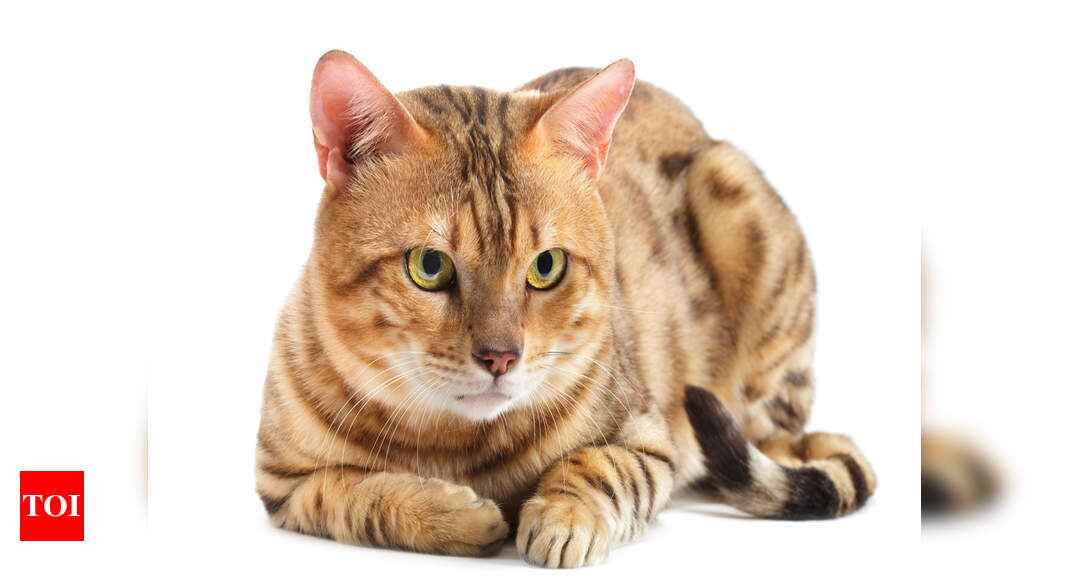cat: (274, 13, 717, 445)
